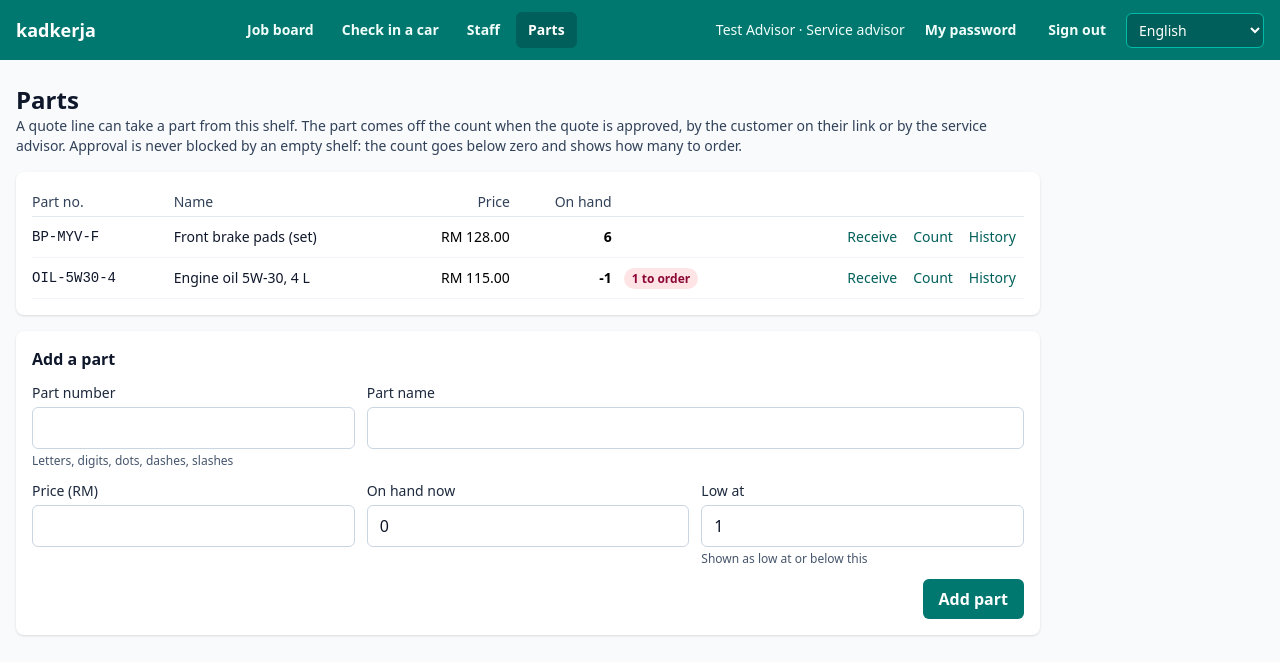
Test: Parts page › receives a delivery and refreshes the shelf
Expected: the table is shown, [32, 188, 1024, 299]
Click the button with aria-label "Receive BP-MYV-F".
click(872, 237)  # box [839, 223, 905, 251]
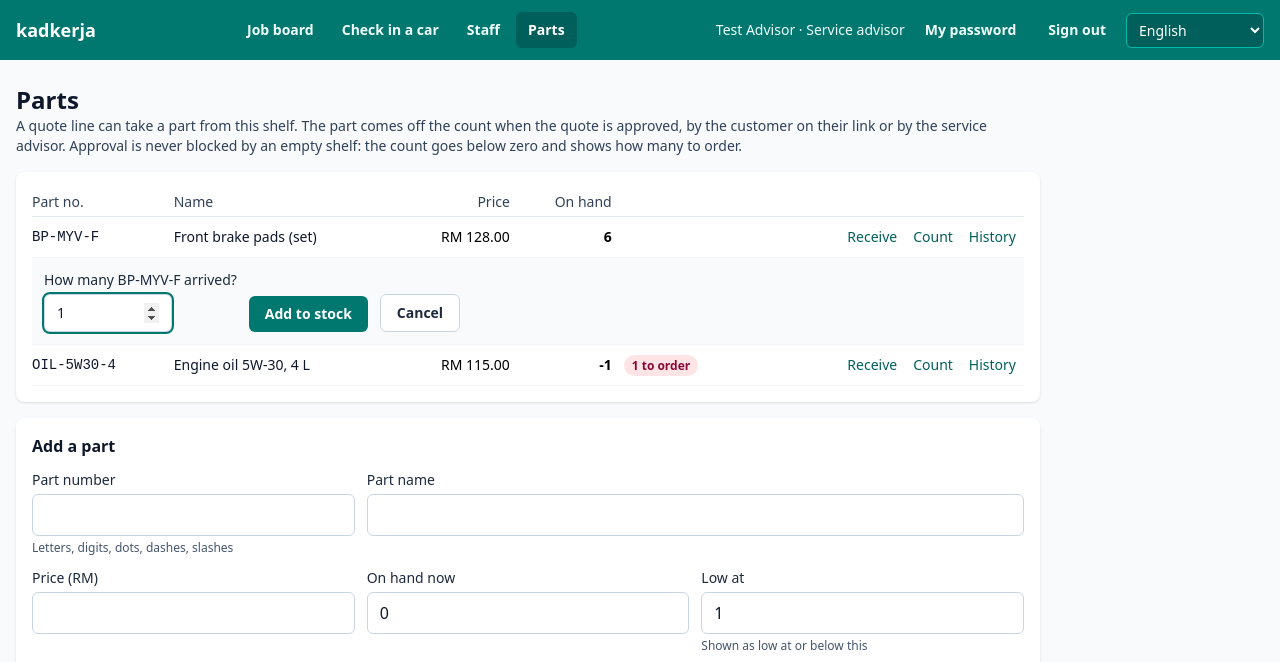
Clear the number field labelled "How many BP-MYV-F arrived?" at (108, 313), box [44, 294, 172, 332]
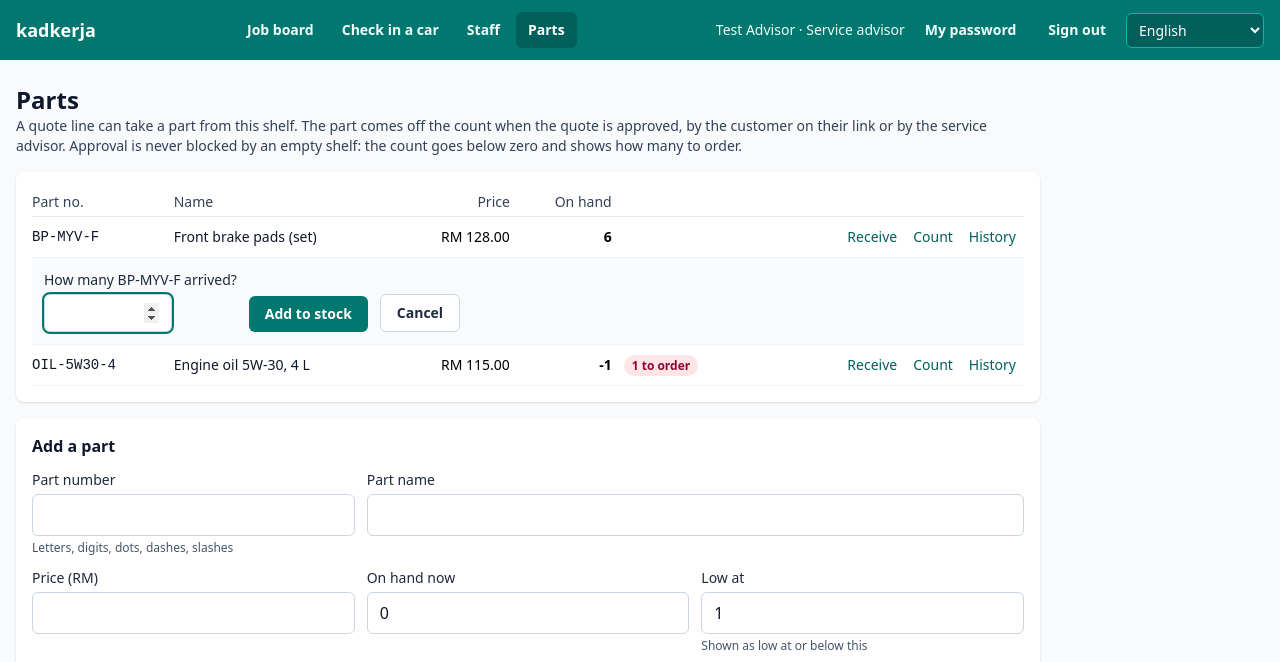
Click the button "Add to stock".
click(308, 314)  # box [249, 296, 368, 332]
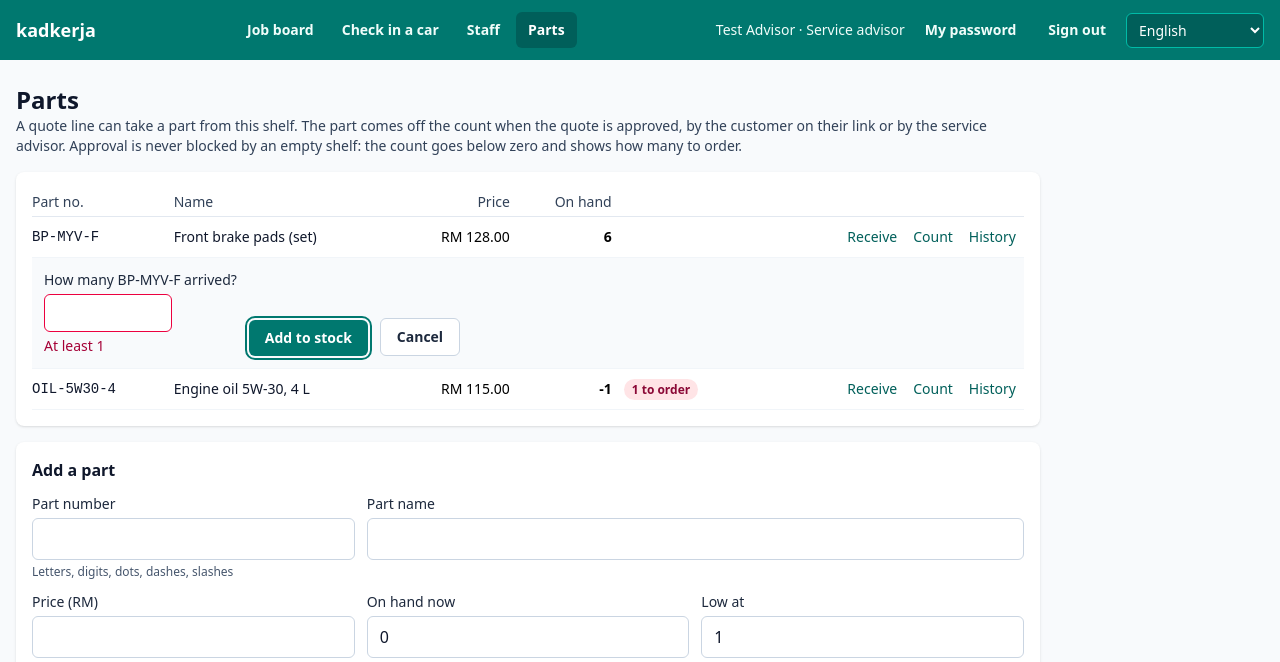
Expected: the text "At least 1" is shown, [44, 336, 104, 355]
Type "4" into the number field labelled "How many BP-MYV-F arrived?".
click(108, 313); type("4")  # box [44, 294, 172, 332]
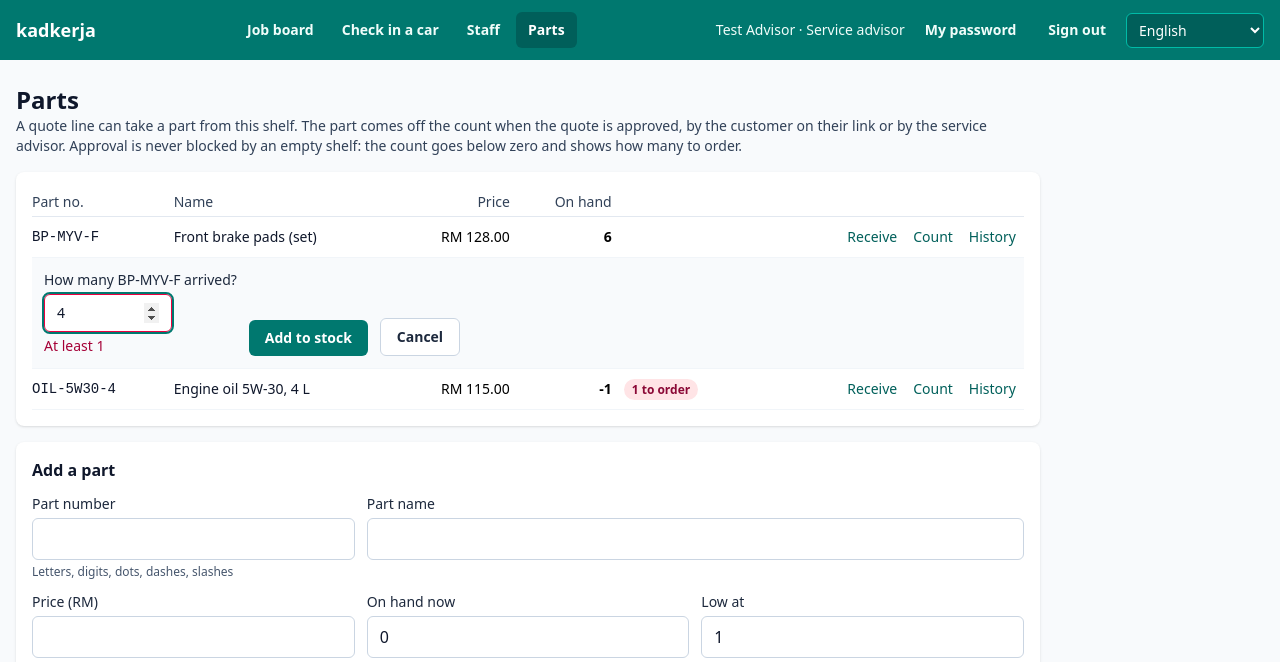
Click the button "Add to stock".
click(308, 338)  # box [249, 320, 368, 356]
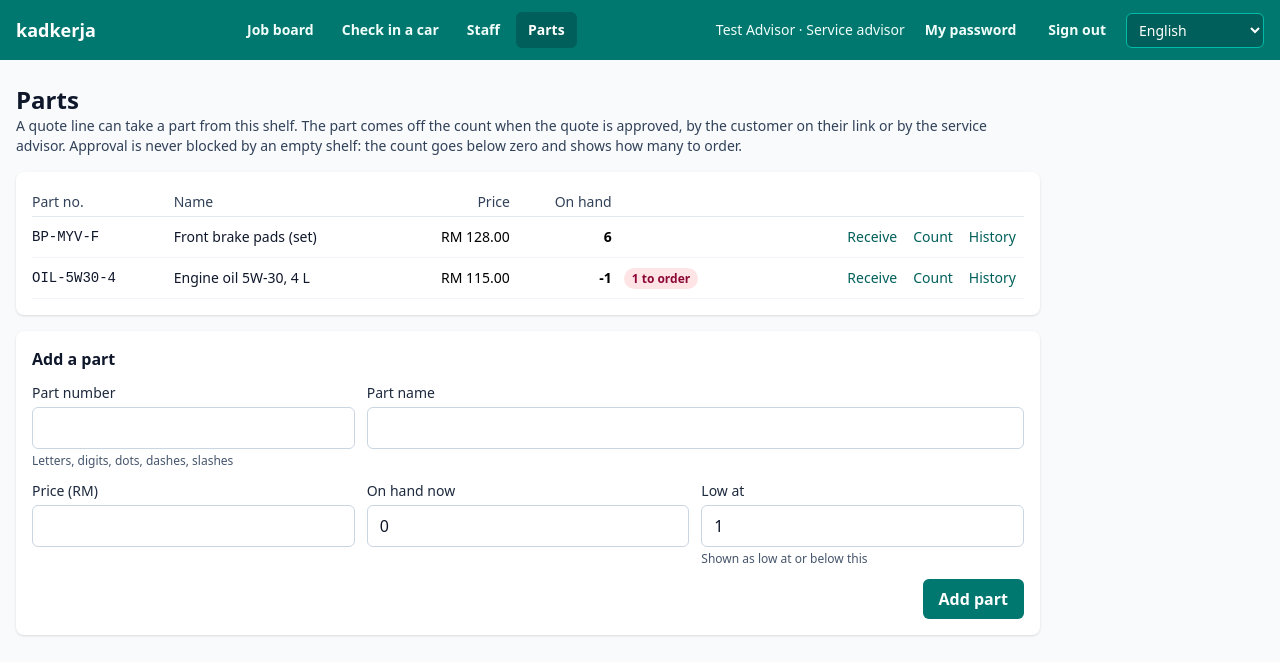
Expected: the label labelled "How many BP-MYV-F arrived?" is gone
